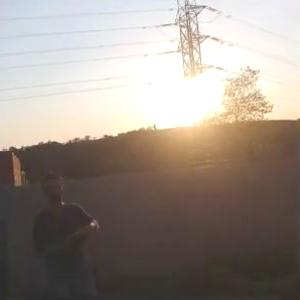follow: (24, 162, 104, 299)
